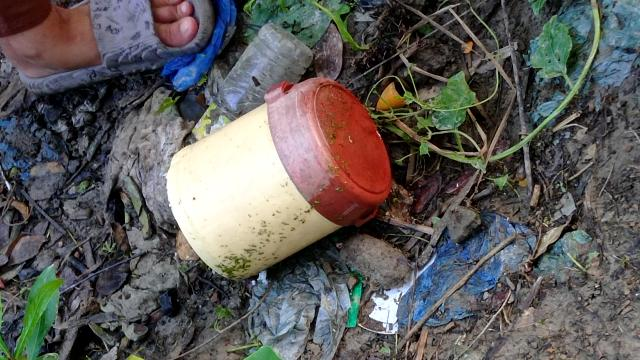hardplastic: (162, 61, 399, 289)
